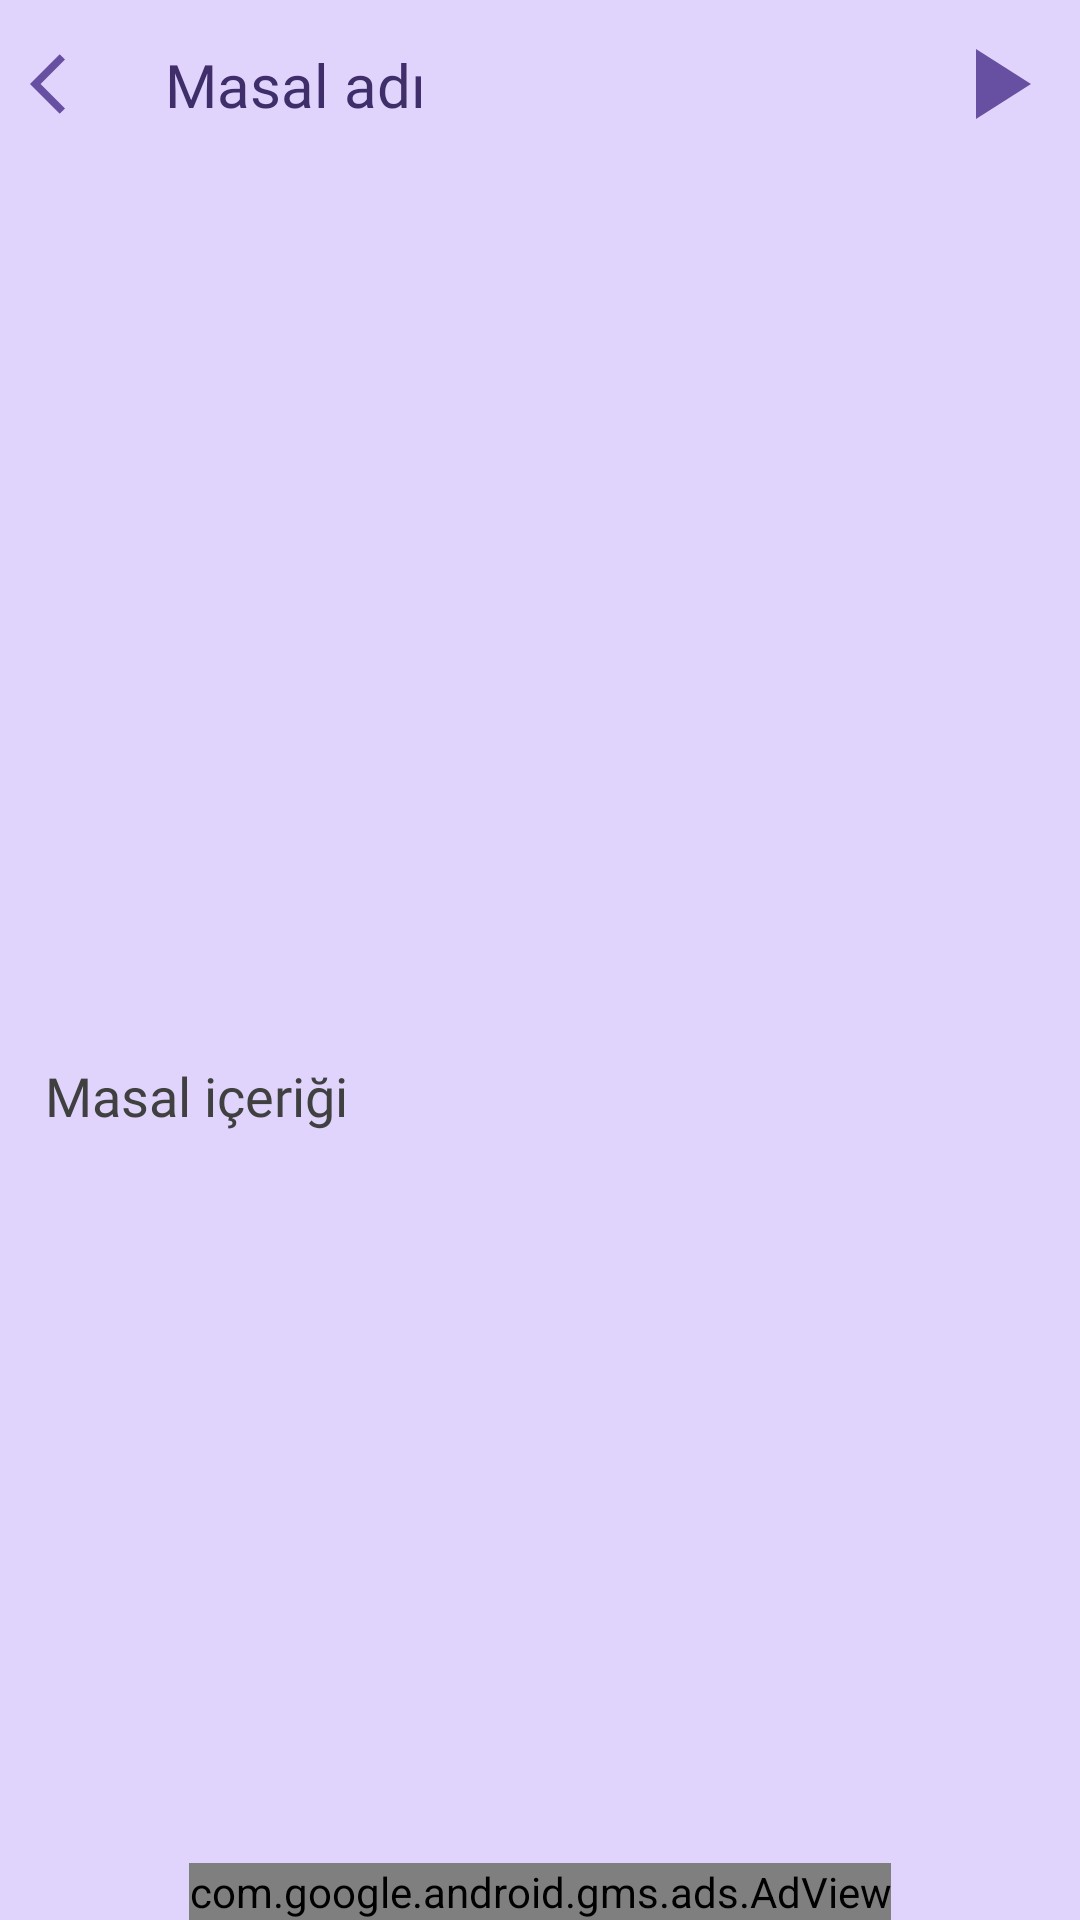

Screen size 1080x1920. Icon name, then its center in pixels as point (x, y):
arrow back: point (47, 84)
play: point (1003, 84)
